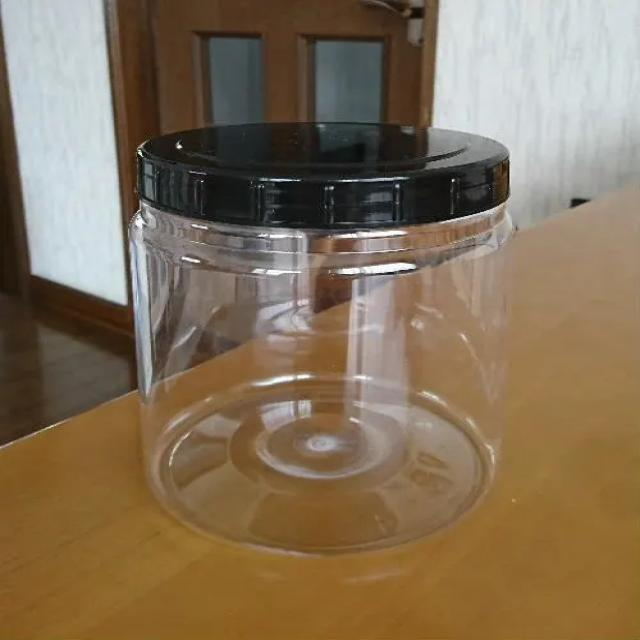plastic: (120, 115, 514, 556)
